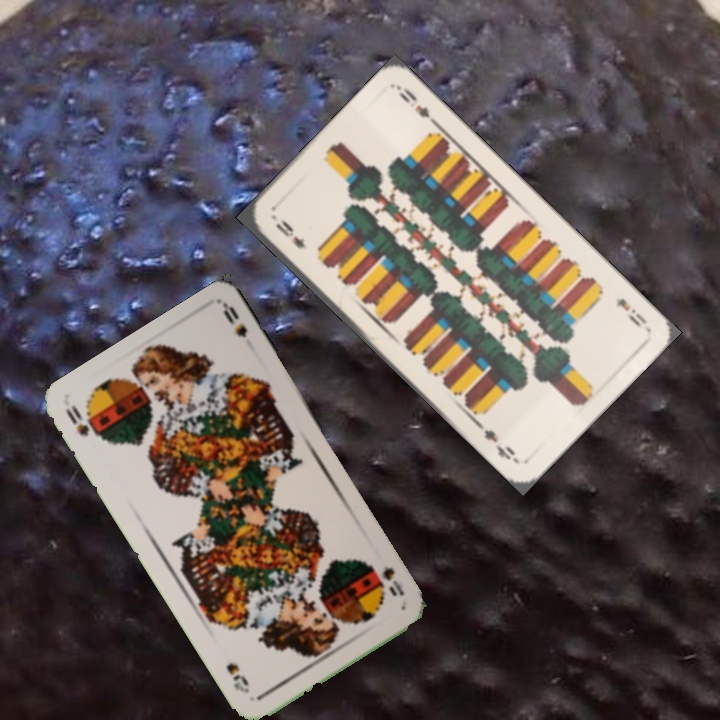E9: (611, 293, 650, 330), (271, 214, 309, 251)
SO: (61, 400, 92, 439), (378, 563, 407, 600)
